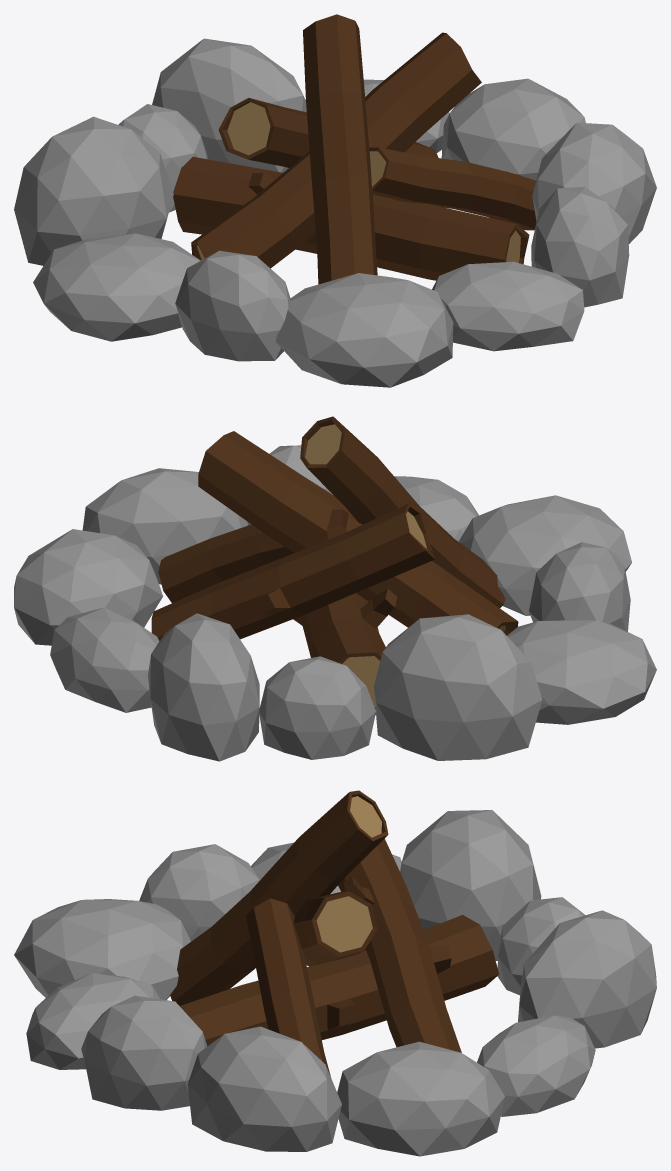
Rendered from Campfire.fbx.
3 views of the same model, one above another, from view 1: azimuth 30°, elevation 25°; view 2: azimuth 150°, elevation 25°; view 3: azimuth 270°, elevation 25° (orthographic).
Visible parts, largest first — view 1: Campfire; view 2: Campfire; view 3: Campfire.
Part boxes in pixels (bbox=[...]): Campfire: bbox=[14, 14, 656, 387]; Campfire: bbox=[14, 416, 656, 761]; Campfire: bbox=[14, 790, 656, 1156].
Bounding box in the file's own units: 227 × 217 × 91.42.
